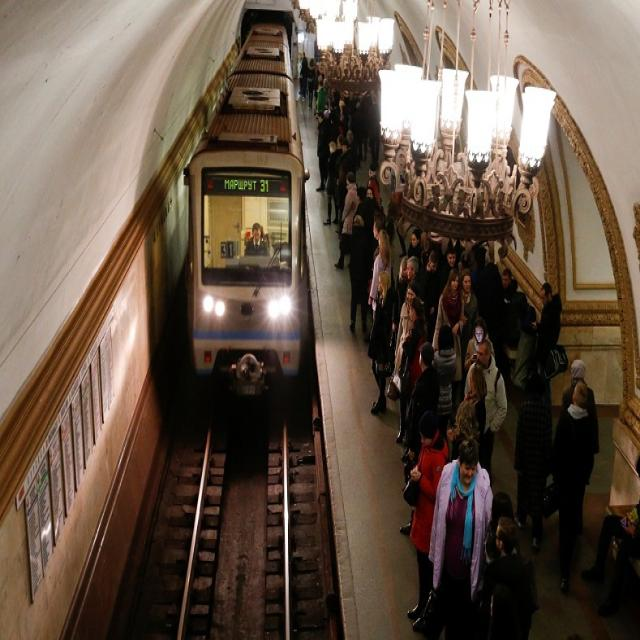body: (428, 436, 493, 634), (580, 452, 640, 621), (405, 408, 450, 632), (550, 378, 596, 595), (398, 341, 440, 539), (512, 368, 556, 553), (479, 513, 536, 639), (463, 338, 509, 489), (430, 266, 466, 406), (397, 295, 428, 447), (530, 281, 564, 416), (366, 269, 396, 416), (561, 358, 600, 454), (433, 323, 458, 465), (338, 87, 380, 167), (454, 362, 489, 446), (347, 212, 371, 334), (483, 490, 522, 565), (366, 226, 394, 326), (332, 170, 360, 270), (458, 270, 479, 399), (392, 280, 418, 374), (419, 249, 444, 346), (445, 398, 482, 462), (468, 236, 496, 316), (333, 138, 356, 235), (336, 138, 354, 242), (463, 316, 496, 372), (499, 267, 519, 354), (486, 583, 515, 640), (362, 175, 383, 253), (322, 140, 340, 227), (322, 87, 342, 164), (390, 185, 407, 274), (314, 109, 332, 193), (392, 255, 411, 333), (351, 184, 376, 237), (438, 244, 460, 299), (384, 189, 399, 254), (372, 211, 387, 267), (244, 221, 269, 254), (313, 60, 326, 119), (443, 248, 460, 288), (366, 161, 381, 206), (406, 227, 424, 264), (372, 216, 386, 262), (426, 229, 444, 263), (299, 49, 309, 104), (306, 56, 315, 110), (406, 256, 422, 286), (316, 79, 328, 117), (363, 184, 379, 211), (344, 127, 358, 157), (296, 52, 305, 93), (333, 134, 348, 156), (418, 248, 430, 274), (379, 196, 389, 227), (324, 102, 333, 135), (259, 224, 269, 251), (297, 57, 304, 95), (562, 629, 586, 640), (428, 228, 430, 237)
